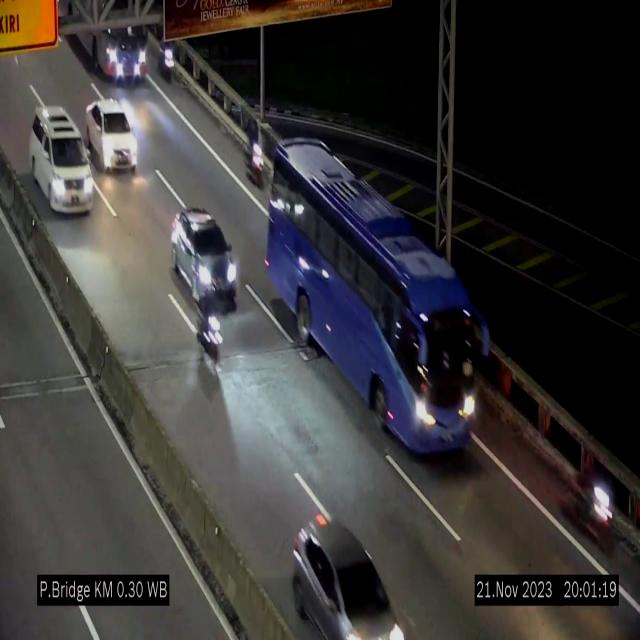Bus: (266, 144, 476, 451), (53, 0, 149, 88)
Car: (286, 493, 400, 640), (30, 106, 95, 214), (171, 209, 239, 307), (86, 100, 137, 172)
Motorcycle: (564, 446, 618, 562), (195, 297, 226, 376), (151, 24, 180, 93), (243, 108, 264, 185)
